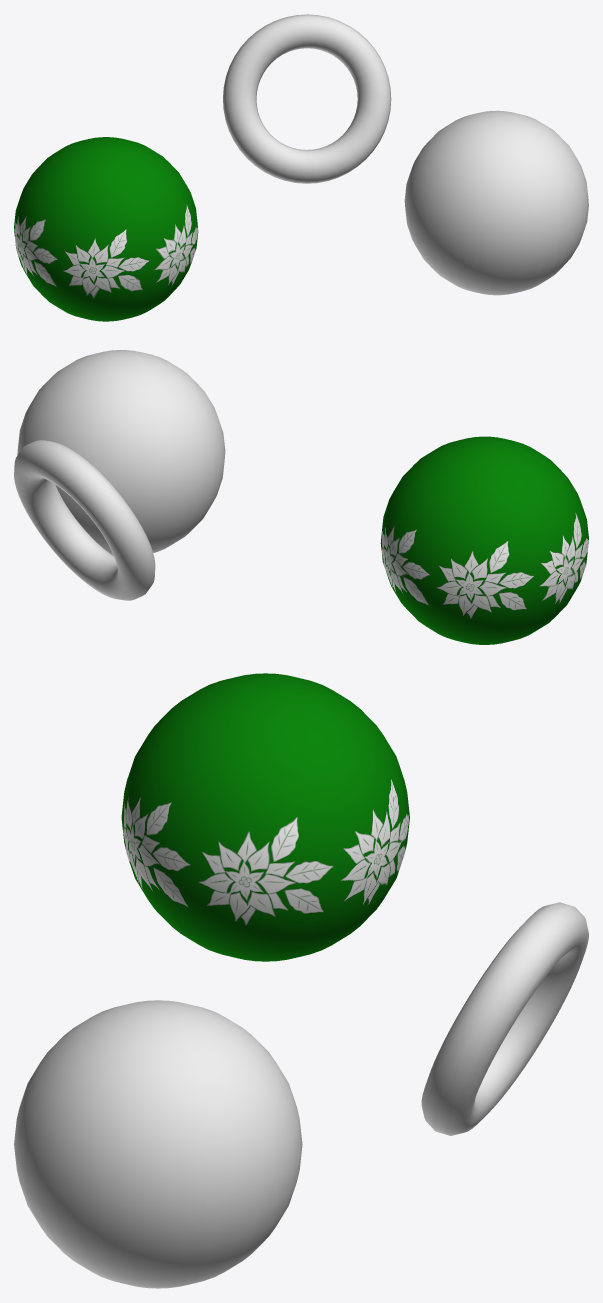
Rendered from reflection-test1.gltf.
3 renders of one model, top to bottom at view 1: azimuth 30°, elevation 25°; view 2: azimuth 150°, elevation 25°; view 3: azimuth 270°, elevation 25°, orthographic. The views are drawn at different scales.
Parts seen in each view (by area): view 1: Sphere.001, Sphere, Torus; view 2: Sphere, Sphere.001, Torus; view 3: Sphere, Sphere.001, Torus.
Part boxes in pixels (x1=…): Sphere.001: x1=404, y1=110, x2=588, y2=295; Sphere: x1=14, y1=137, x2=198, y2=321; Torus: x1=223, y1=14, x2=391, y2=183; Sphere: x1=380, y1=436, x2=588, y2=644; Sphere.001: x1=17, y1=350, x2=225, y2=555; Torus: x1=14, y1=440, x2=155, y2=600; Sphere: x1=121, y1=673, x2=409, y2=961; Sphere.001: x1=14, y1=1000, x2=302, y2=1288; Torus: x1=421, y1=902, x2=588, y2=1135.
Size of what is drawn, in the model's own units: 6.45 by 2.42 by 3.99.
2 materials, 1 textured.
